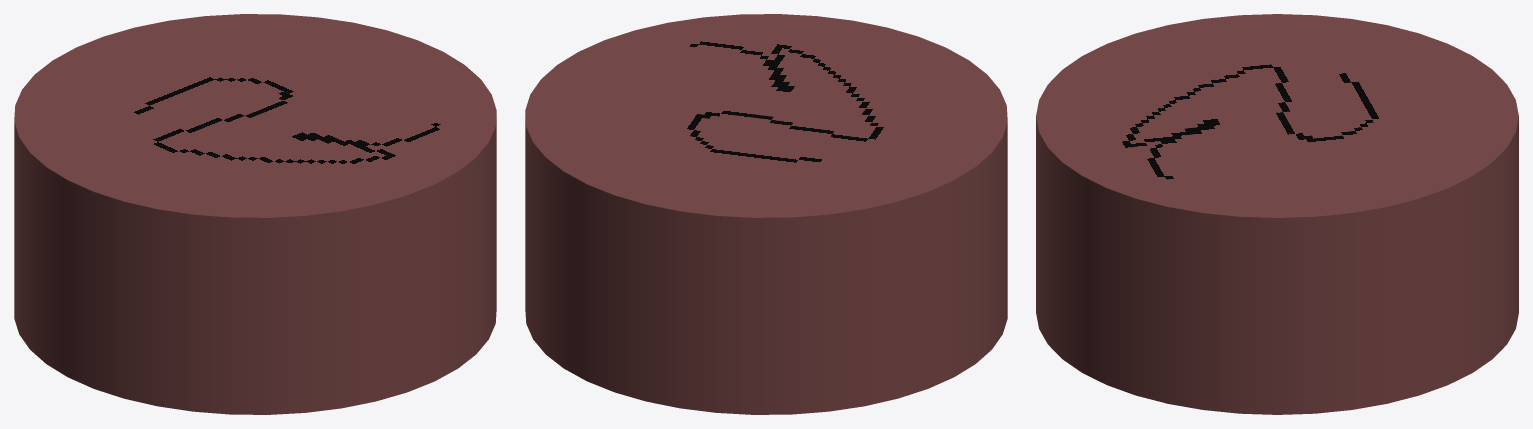
File: TestingUVs.fbx
3 views of the same model, side by side, from view 1: azimuth 30°, elevation 25°; view 2: azimuth 150°, elevation 25°; view 3: azimuth 270°, elevation 25° (orthographic).
Parts seen in each view (by area): view 1: pCylinder1; view 2: pCylinder1; view 3: pCylinder1.
Part boxes in pixels (x1,y1,x2,y2): pCylinder1: (14, 14, 496, 414); pCylinder1: (525, 14, 1007, 414); pCylinder1: (1036, 14, 1518, 414).
Size of the model in its own units: 2 by 0.9 by 2.
Materials: 1 (1 with a texture image).
